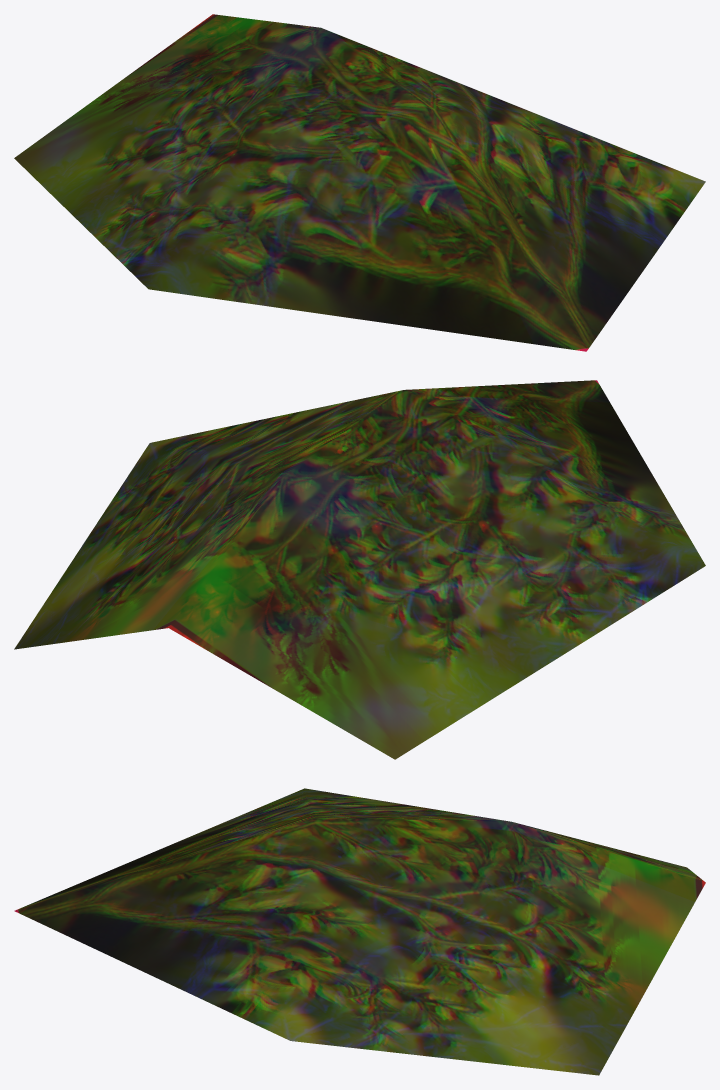
The model's file is Bush_04_Mesh.fbx.
3 views of the same model, one above another, from view 1: azimuth 30°, elevation 25°; view 2: azimuth 150°, elevation 25°; view 3: azimuth 270°, elevation 25° (orthographic). The views are drawn at different scales.
Visible parts, largest first — view 1: BerryBush_Mesh; view 2: BerryBush_Mesh; view 3: BerryBush_Mesh.
Boxes of the visible parts, left/top/right/bottom form: BerryBush_Mesh: left=14, top=14, right=705, bottom=351; BerryBush_Mesh: left=14, top=380, right=705, bottom=759; BerryBush_Mesh: left=14, top=788, right=705, bottom=1075.
Bounding box in the file's own units: 1.51 × 0.493 × 1.88.
